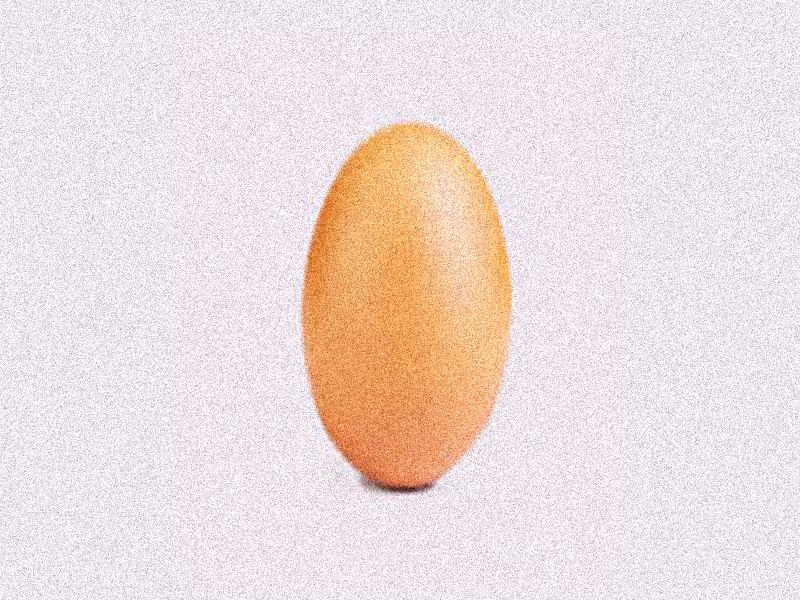Eggs: (303, 116, 508, 491)
